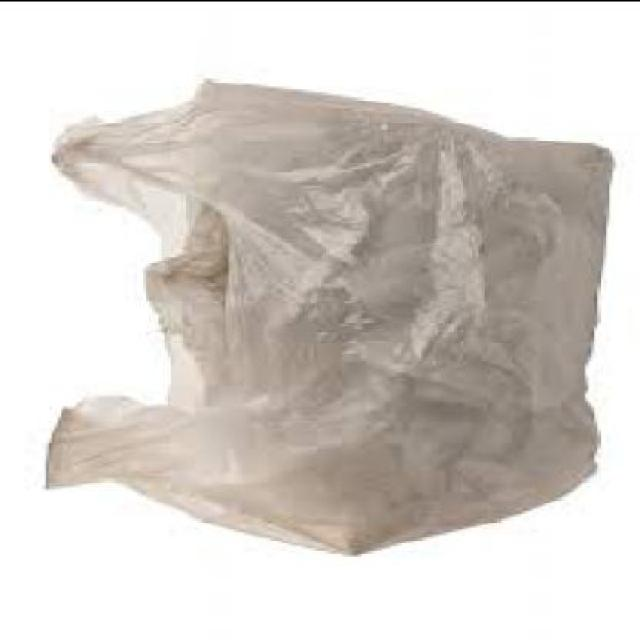plastic: (43, 80, 612, 552)
